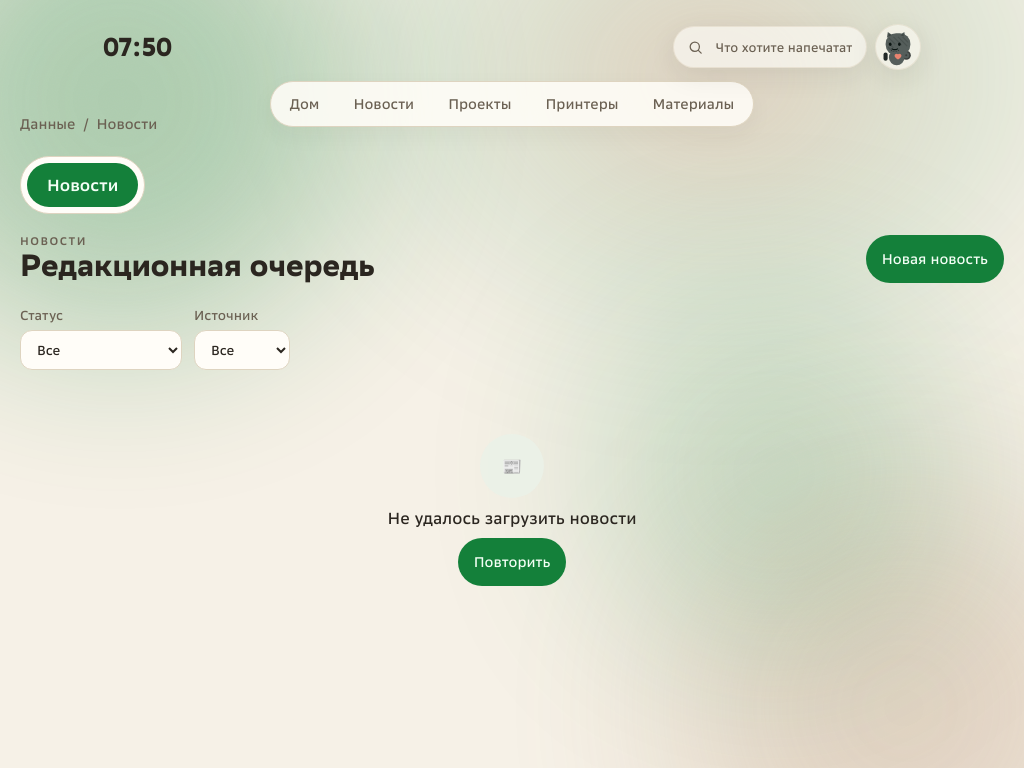
Test: NewsAdminScreen › показывает ошибку запроса и позволяет повторить
What coordinates should you click on to do the following:
click the button "Повторить"
I would click on:
 (512, 562)
Its box is [458,538,566,586].
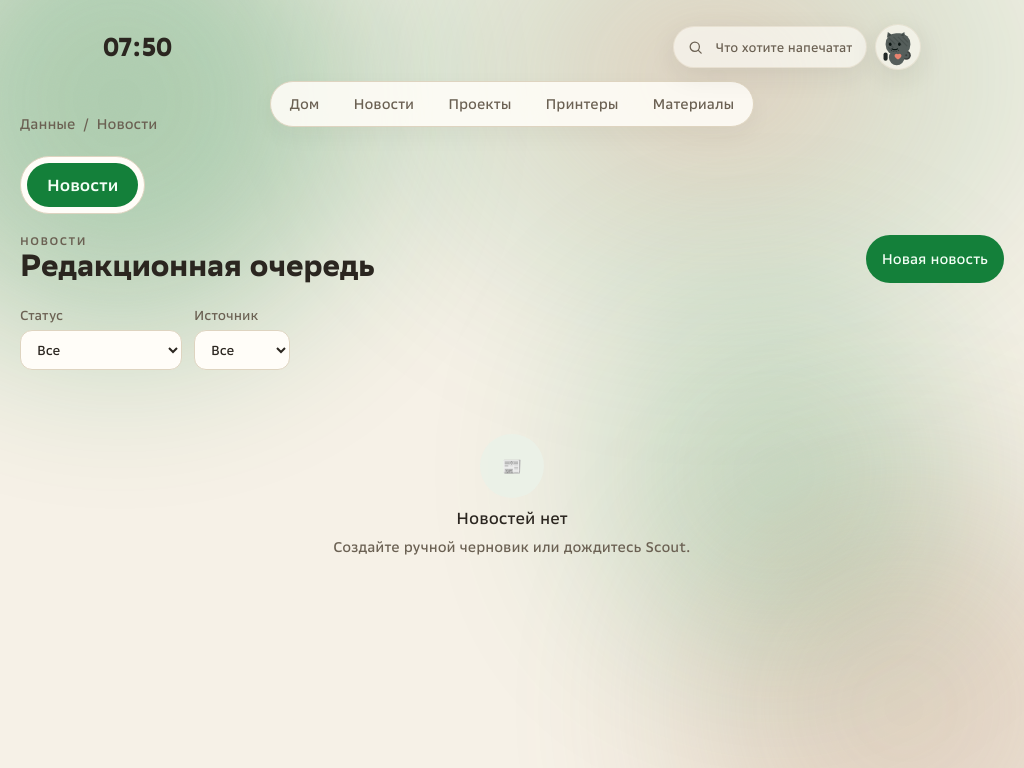
Now the text "Новостей нет" is shown, box [456,508,568,528]
